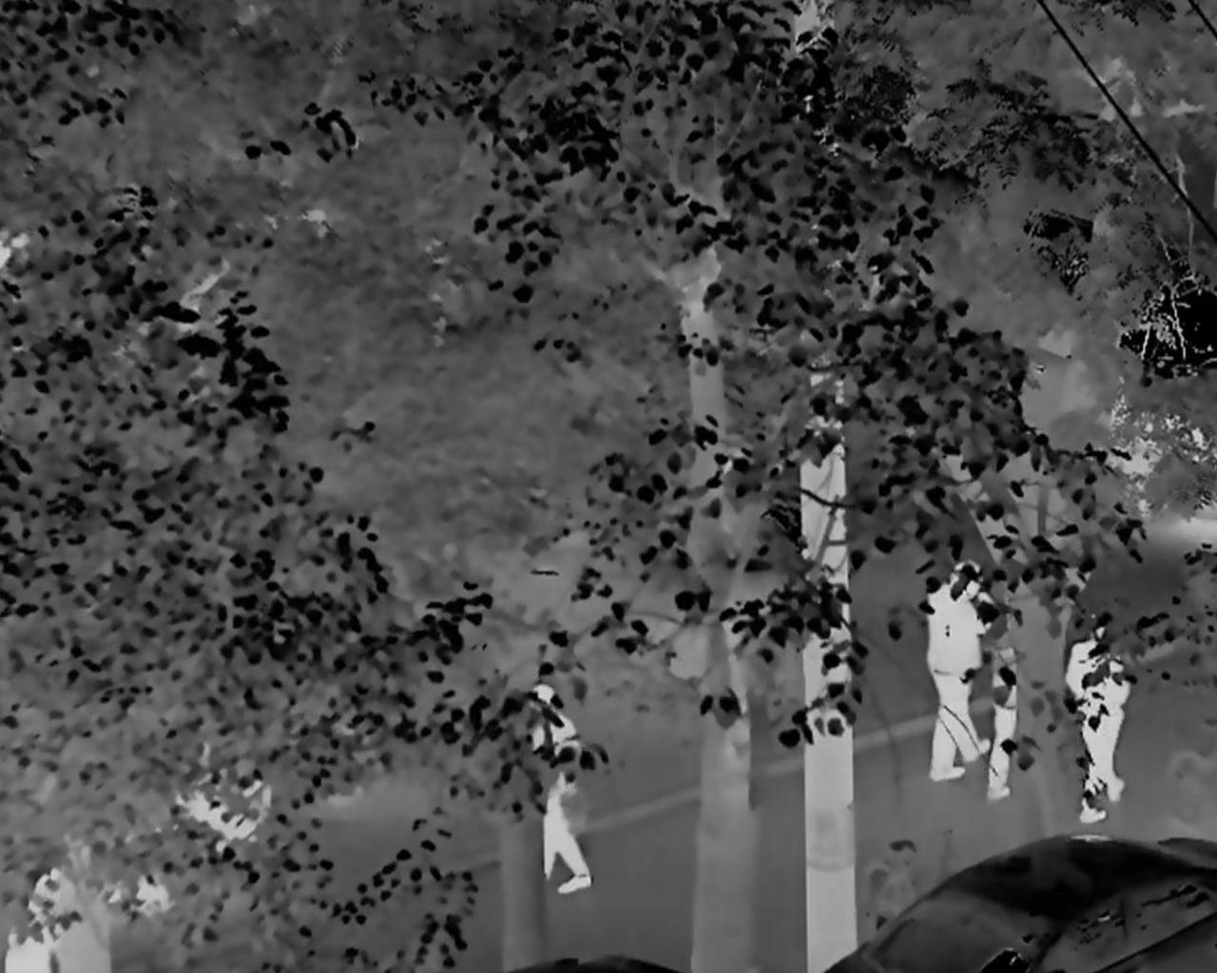person: (917, 559, 992, 787), (528, 683, 593, 891), (1068, 613, 1130, 826)
